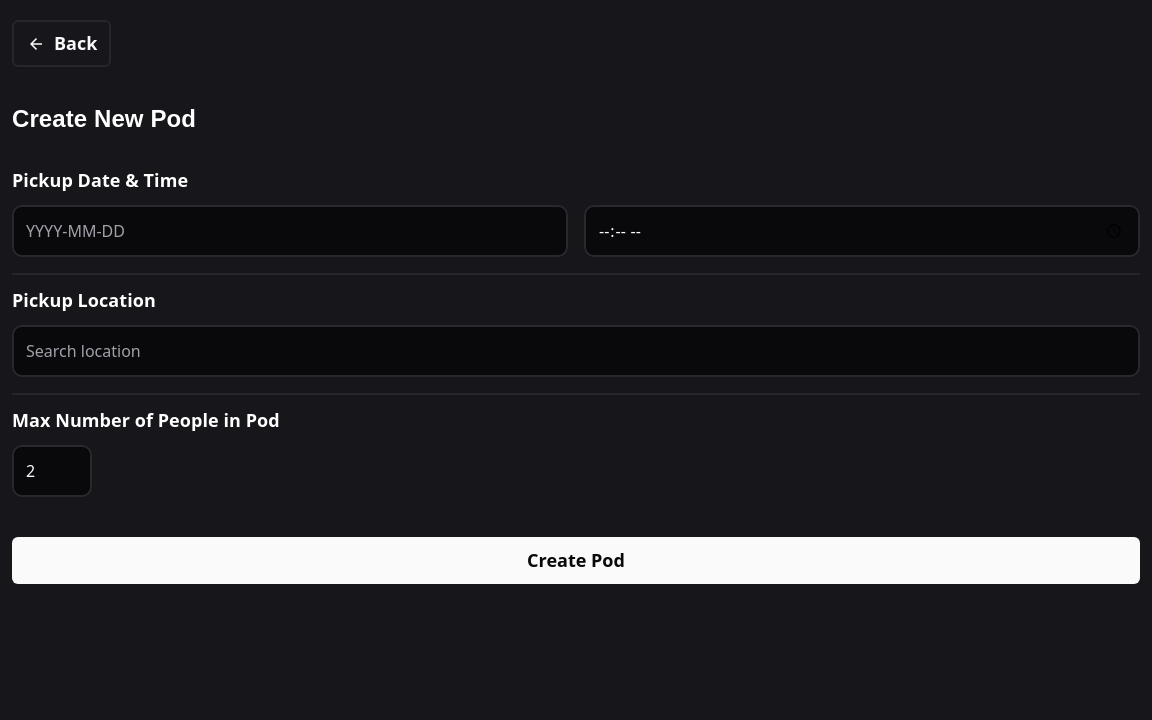
Test: CreatePodScreen › Location Search › filters locations based on search query
Type "Commons" into the field with placeholder "Search location" at (576, 351), box [12, 325, 1140, 377]
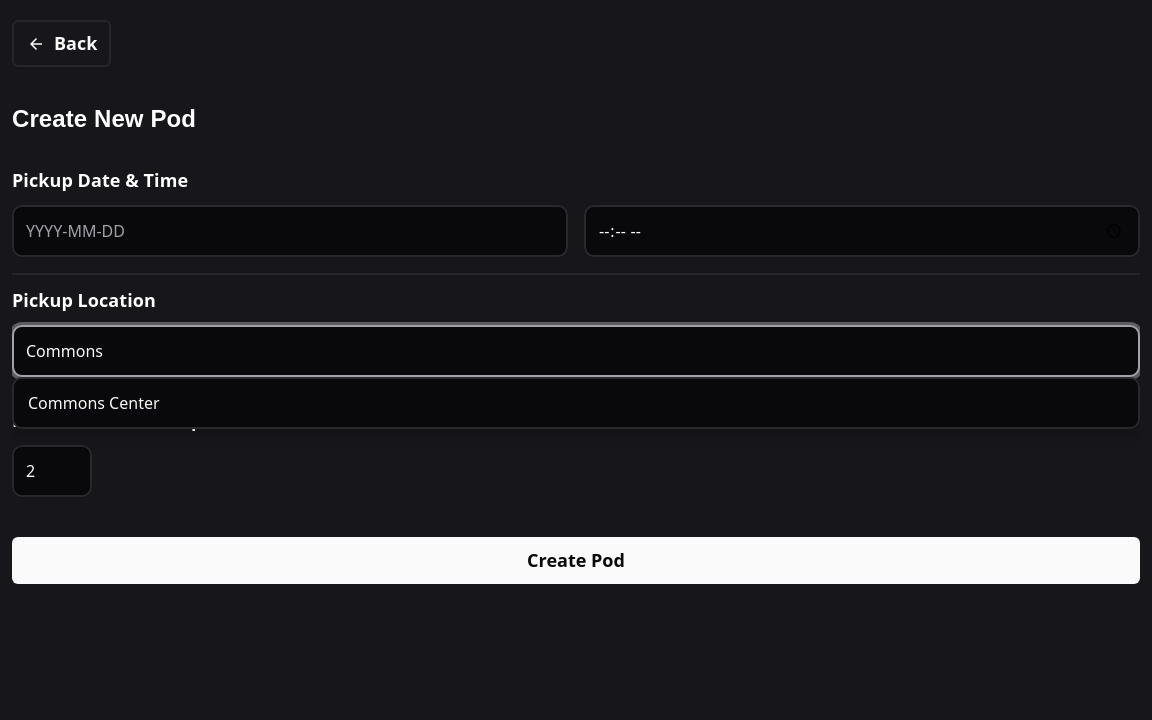
Result: the button "Commons Center" is shown at [14, 379, 1138, 427]
